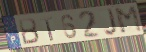2: (78, 10, 103, 40)
6: (60, 13, 79, 40)
B: (17, 17, 41, 46)
J: (103, 7, 119, 38)
M: (113, 5, 145, 36)
T: (39, 16, 55, 43)
